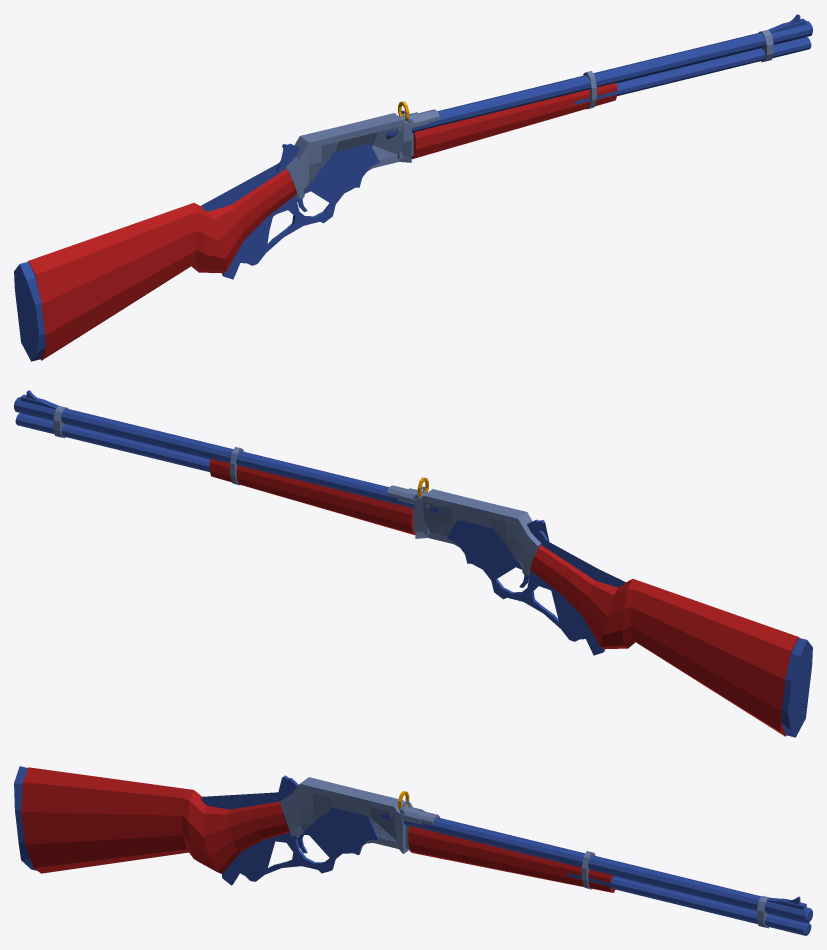
Rendered from Winchester.fbx.
The picture shows the model from 3 angles, top to bottom: view 1: azimuth 30°, elevation 25°; view 2: azimuth 150°, elevation 25°; view 3: azimuth 330°, elevation 25°; orthographic projection.
Parts seen in each view (by area): view 1: stock, handpiece, barrel1, chamber, grip, barrel2, stockback; view 2: stock, barrel1, handpiece, chamber, grip, barrel2, stockback; view 3: stock, handpiece, barrel1, chamber, grip, barrel2, stockback.
Part boxes in pixels (x1,y1,x2,y2): stock: [27, 169, 296, 360]; handpiece: [201, 143, 379, 279]; barrel1: [386, 21, 812, 139]; chamber: [285, 113, 411, 199]; grip: [411, 82, 617, 159]; barrel2: [575, 37, 811, 104]; stockback: [14, 261, 45, 361]; stock: [530, 545, 799, 736]; barrel1: [14, 397, 440, 515]; handpiece: [447, 519, 625, 655]; chamber: [415, 489, 541, 575]; grip: [209, 458, 415, 535]; barrel2: [15, 413, 210, 471]; stockback: [781, 637, 812, 737]; stock: [21, 767, 289, 873]; handpiece: [200, 775, 378, 885]; barrel1: [380, 812, 812, 922]; chamber: [280, 777, 409, 854]; grip: [408, 825, 615, 892]; barrel2: [568, 873, 811, 935]; stockback: [14, 766, 36, 870].
Bounding box in the file's own units: 190 × 39.16 × 8.56.
